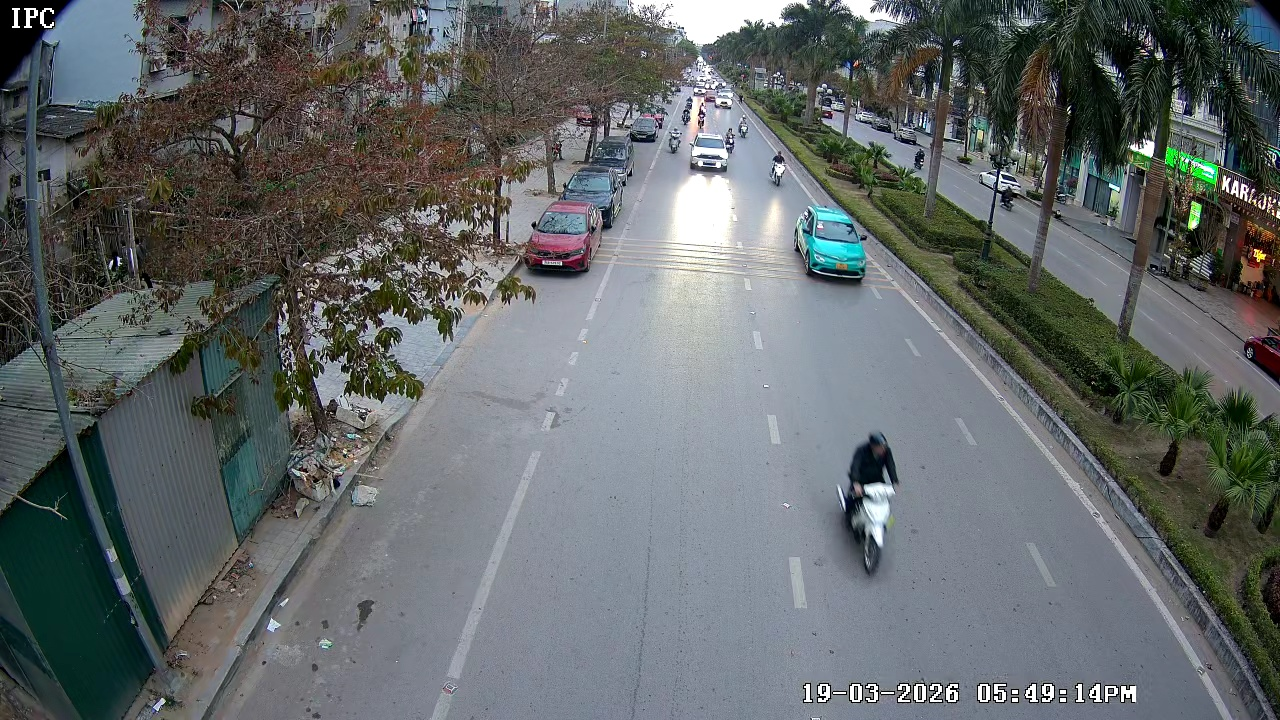car: (792, 206, 868, 284), (524, 200, 599, 277), (687, 131, 734, 175), (628, 112, 658, 146), (717, 93, 733, 110)
motorbike: (822, 424, 915, 581), (770, 152, 792, 187), (669, 127, 683, 156), (737, 115, 753, 139)
